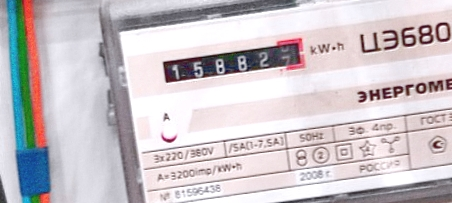1: (170, 63, 182, 82)
2: (257, 50, 270, 68)
5: (191, 60, 205, 78)
7: (280, 53, 292, 67)
8: (214, 57, 226, 75), (236, 54, 248, 71)
screen: (154, 34, 313, 89)
